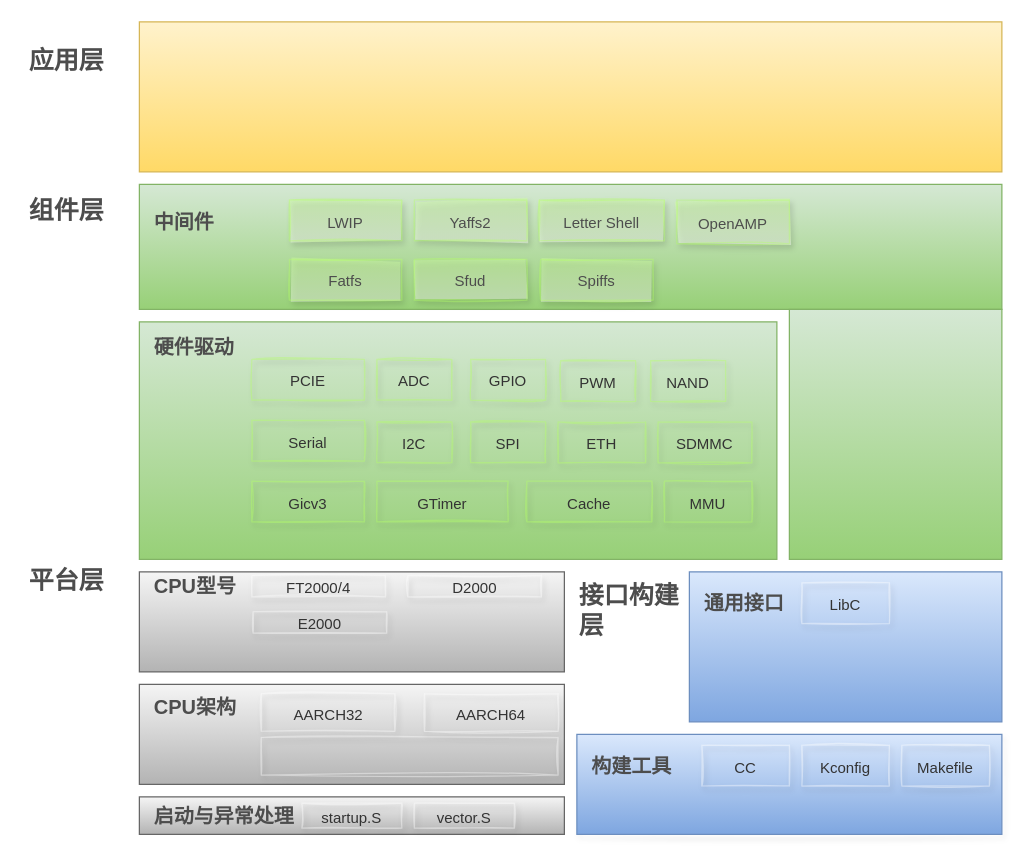
This 1031x865 diagram has some shape labels left out. Each missing label, with the centre of its shape:
"Armv8-a" goes at (x=410, y=757).
"中间件接口(Ports)" goes at (x=895, y=433).
"嵌入式应用" goes at (x=570, y=96).
